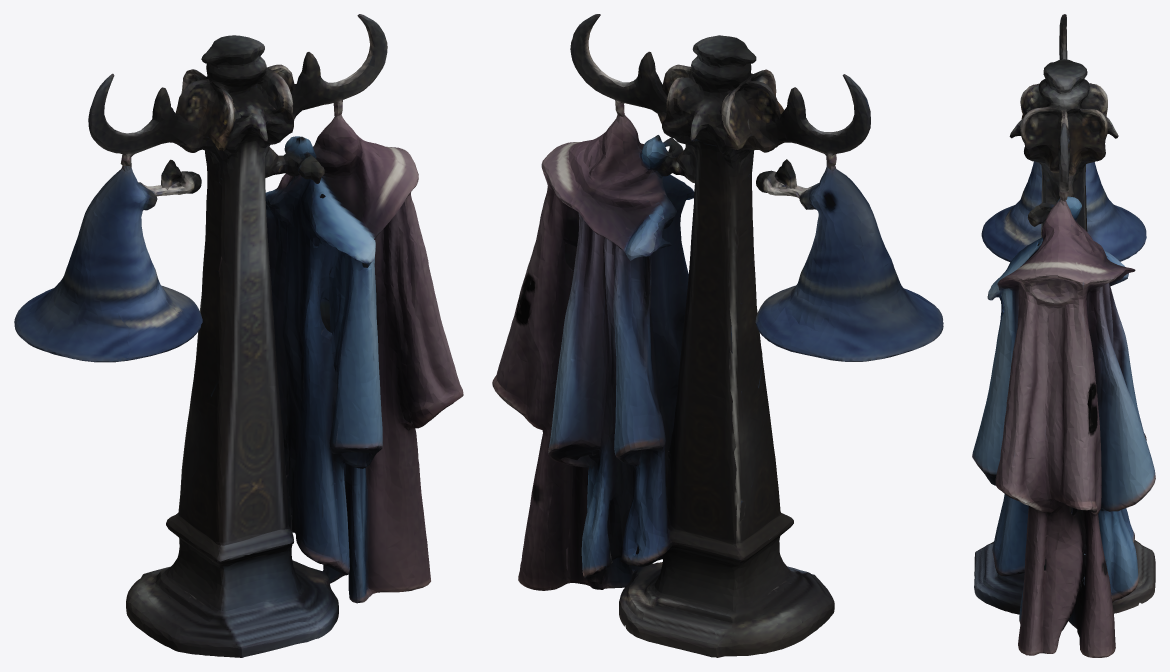
The model's file is Coat_Rack_for_Wizards.glb.
The picture shows the model from 3 angles, left to right: view 1: azimuth 30°, elevation 25°; view 2: azimuth 150°, elevation 25°; view 3: azimuth 270°, elevation 25°; orthographic projection. The views are drawn at different scales.
Visible parts, largest first — view 1: world; view 2: world; view 3: world.
Part boxes in pixels (x1,y1,x2,y2): world: (14, 14, 463, 657); world: (492, 14, 943, 657); world: (972, 14, 1155, 657).
Bounding box in the file's own units: 0.7921 × 1 × 0.3253.
1 material, 1 textured.
